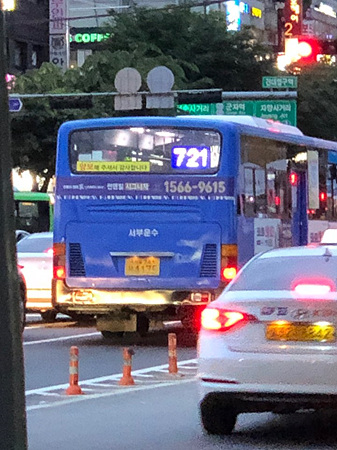bnum: (172, 145, 210, 167)
